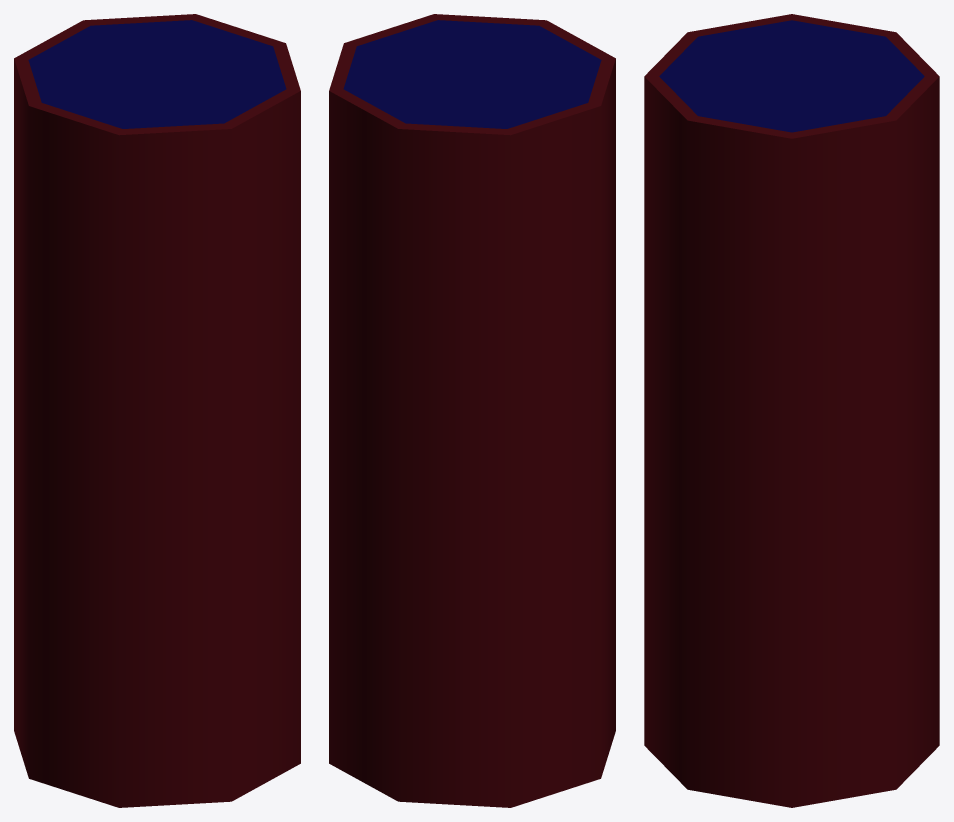
File: Wood.fbx
3 views of the same model, side by side, from view 1: azimuth 30°, elevation 25°; view 2: azimuth 150°, elevation 25°; view 3: azimuth 270°, elevation 25° (orthographic).
Parts seen in each view (by area): view 1: Wood_LOD0; view 2: Wood_LOD0; view 3: Wood_LOD0.
Part boxes in pixels (left/top/right/bottom): Wood_LOD0: left=14, top=14, right=300, bottom=807; Wood_LOD0: left=329, top=14, right=615, bottom=807; Wood_LOD0: left=644, top=14, right=939, bottom=807.
Size of what is drawn, in the model's own units: 0.3 by 0.75 by 0.3.
